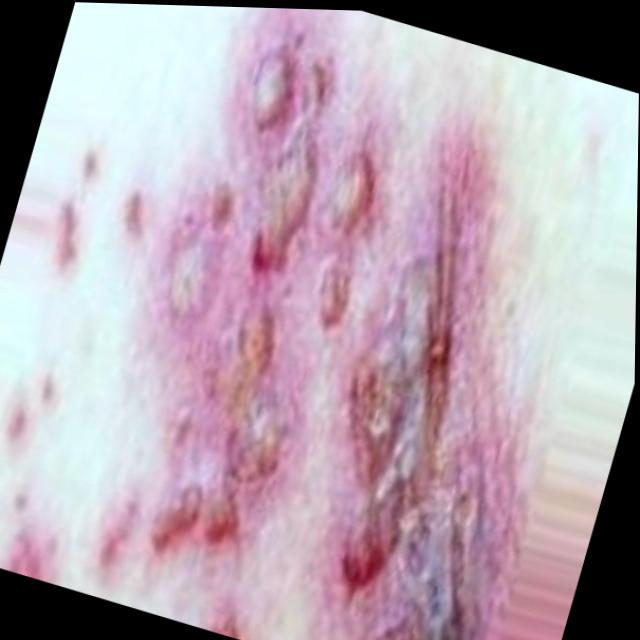Shingles: (91, 30, 626, 640)
